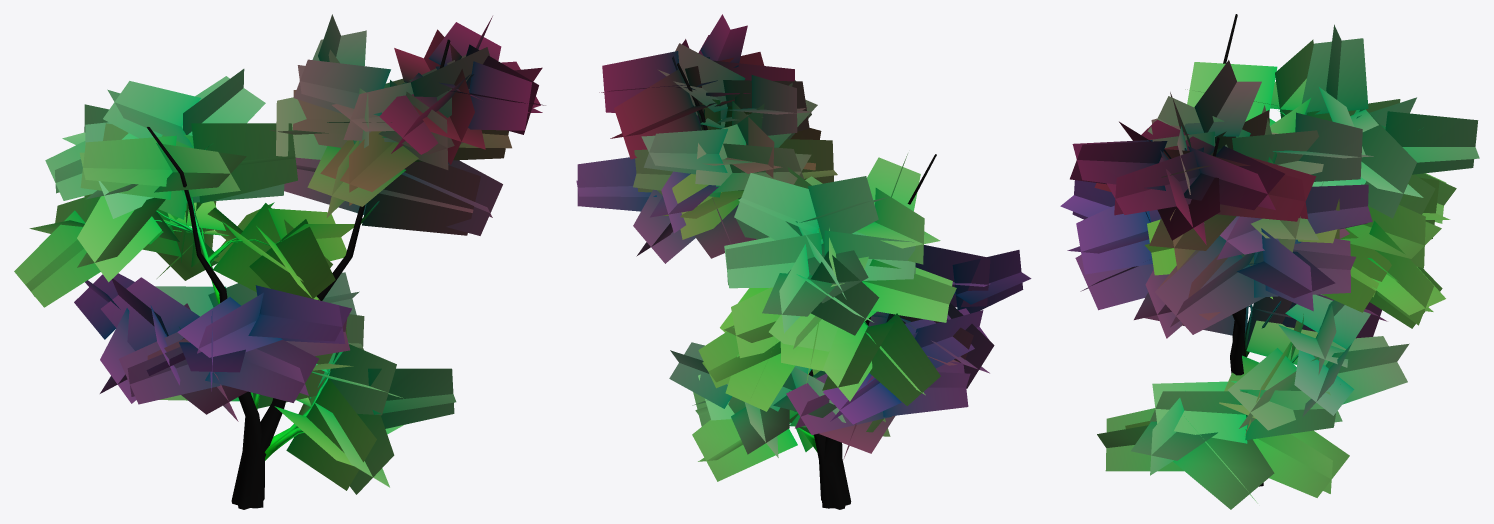
Rendered from M_Realistic12_7.fbx.
The picture shows the model from 3 angles, left to right: view 1: azimuth 30°, elevation 25°; view 2: azimuth 150°, elevation 25°; view 3: azimuth 270°, elevation 25°; orthographic projection. The views are drawn at different scales.
Parts seen in each view (by area): view 1: Tree_7; view 2: Tree_7; view 3: Tree_7.
Boxes of the visible parts, bbox=[...] form: Tree_7: bbox=[14, 14, 545, 509]; Tree_7: bbox=[576, 14, 1031, 509]; Tree_7: bbox=[1060, 14, 1479, 509].
Size of the model in its own units: 1663 by 1613 by 1367.
